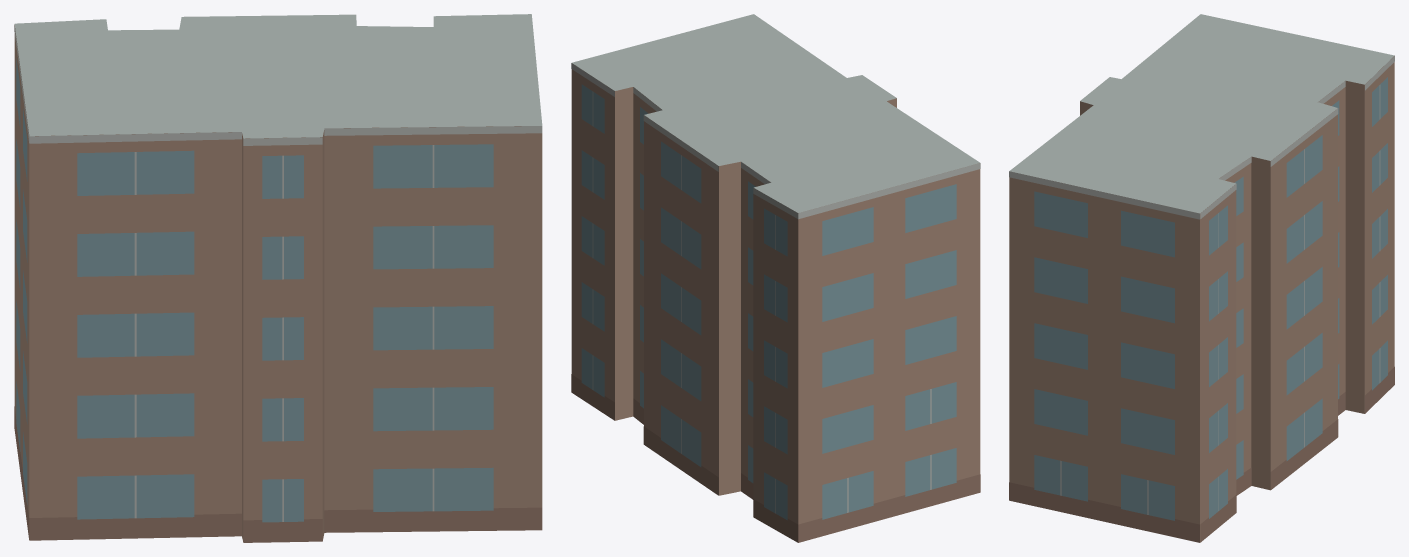
File: survey-upis-32959788.glb
3 renders of one model, left to right at view 1: azimuth 30°, elevation 25°; view 2: azimuth 150°, elevation 25°; view 3: azimuth 270°, elevation 25°, orthographic. The views are drawn at different scales.
Visible parts, largest first — view 1: survey-upis-32959788.tmp; view 2: survey-upis-32959788.tmp; view 3: survey-upis-32959788.tmp.
Part boxes in pixels (x1,y1,x2,y2): survey-upis-32959788.tmp: (14,14,542,542); survey-upis-32959788.tmp: (571,14,980,542); survey-upis-32959788.tmp: (1009,14,1394,542).
Size of the model in its own units: 17.09 by 13.15 by 13.96.
